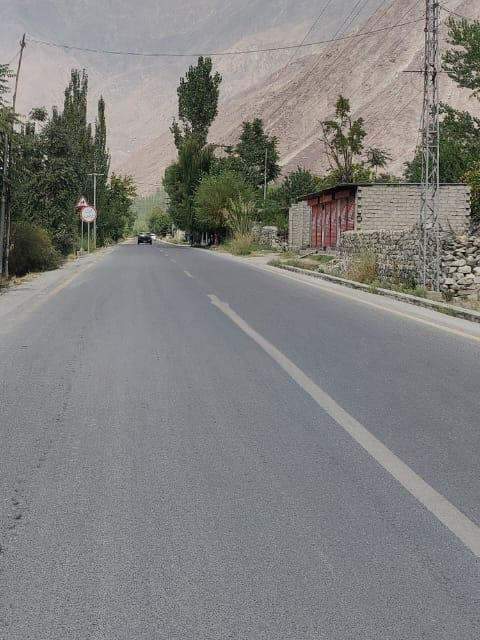sharp_turn: (56, 169, 446, 640)
